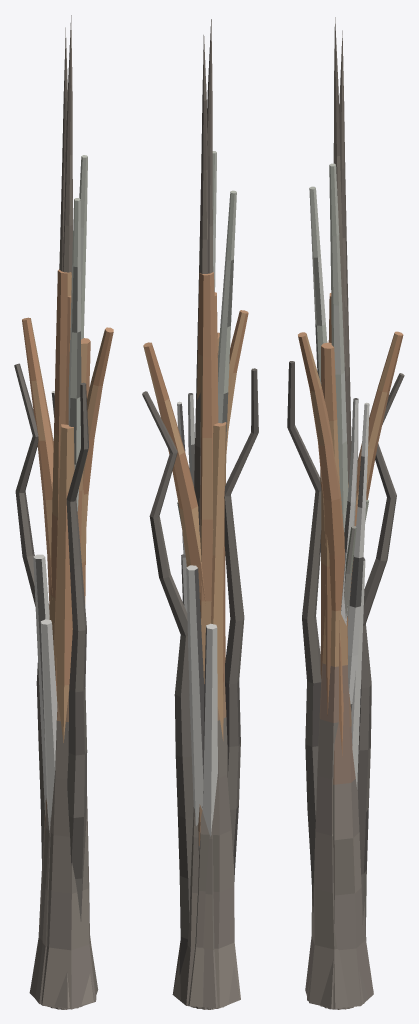
Rendered from stumps.glb.
3 views of the same model, side by side, from view 1: azimuth 90°, elevation 25°; view 2: azimuth 150°, elevation 25°; view 3: azimuth 330°, elevation 25° (orthographic).
Visible parts, largest first — view 1: ScotsPine_B_trunk, Alder_A_trunk, ScotsPine_A_trunk, Pine3_trunk, Pine2_trunk, Alder_B_trunk, Aspen_B_trunk, Birch2_trunk, NorwaySpruce_B_trunk, Birch1_trunk, Pine5_trunk, Aspen_A_trunk (+2 smaller); view 2: ScotsPine_B_trunk, ScotsPine_A_trunk, Alder_B_trunk, Alder_A_trunk, Pine2_trunk, Pine3_trunk, Birch1_trunk, Birch2_trunk, NorwaySpruce_A_trunk, Aspen_B_trunk, NorwaySpruce_B_trunk, SilverBirch_A_trunk (+2 smaller); view 3: ScotsPine_B_trunk, ScotsPine_A_trunk, Alder_A_trunk, Alder_B_trunk, Aspen_A_trunk, Pine5_trunk, SilverBirch_B_trunk, NorwaySpruce_A_trunk, Aspen_B_trunk, NorwaySpruce_B_trunk, SilverBirch_A_trunk, Birch0_trunk (+1 smaller).
Part boxes in pixels (bbox=[...]): ScotsPine_B_trunk: bbox=[29, 327, 113, 1009]; Alder_A_trunk: bbox=[66, 382, 88, 921]; ScotsPine_A_trunk: bbox=[22, 317, 97, 1008]; Pine3_trunk: bbox=[54, 424, 81, 1009]; Pine2_trunk: bbox=[45, 269, 71, 1008]; Alder_B_trunk: bbox=[14, 363, 49, 864]; Aspen_B_trunk: bbox=[68, 198, 81, 511]; Birch2_trunk: bbox=[40, 619, 57, 832]; NorwaySpruce_B_trunk: bbox=[63, 15, 72, 274]; Birch1_trunk: bbox=[33, 554, 49, 816]; Pine5_trunk: bbox=[55, 338, 90, 1009]; Aspen_A_trunk: bbox=[79, 155, 87, 339]; ScotsPine_B_trunk: bbox=[173, 310, 248, 1008]; ScotsPine_A_trunk: bbox=[143, 342, 239, 1007]; Alder_B_trunk: bbox=[142, 391, 193, 974]; Alder_A_trunk: bbox=[224, 368, 258, 881]; Pine2_trunk: bbox=[196, 272, 218, 1008]; Pine3_trunk: bbox=[190, 422, 226, 1009]; Birch1_trunk: bbox=[186, 565, 204, 825]; Birch2_trunk: bbox=[202, 623, 217, 836]; NorwaySpruce_A_trunk: bbox=[194, 35, 207, 537]; Aspen_B_trunk: bbox=[218, 190, 236, 440]; NorwaySpruce_B_trunk: bbox=[207, 19, 213, 273]; SilverBirch_A_trunk: bbox=[188, 393, 194, 486]; ScotsPine_B_trunk: bbox=[298, 332, 368, 1008]; ScotsPine_A_trunk: bbox=[307, 331, 403, 1008]; Alder_A_trunk: bbox=[287, 361, 321, 912]; Alder_B_trunk: bbox=[357, 373, 404, 940]; Aspen_A_trunk: bbox=[329, 163, 348, 531]; Pine5_trunk: bbox=[320, 342, 347, 1009]; SilverBirch_B_trunk: bbox=[347, 402, 369, 711]; NorwaySpruce_A_trunk: bbox=[339, 30, 351, 483]; Aspen_B_trunk: bbox=[309, 186, 327, 481]; NorwaySpruce_B_trunk: bbox=[333, 17, 348, 484]; SilverBirch_A_trunk: bbox=[341, 398, 358, 625]; Birch0_trunk: bbox=[351, 558, 365, 789].
Size of the model in its own units: 1.5 by 16.55 by 1.52.
